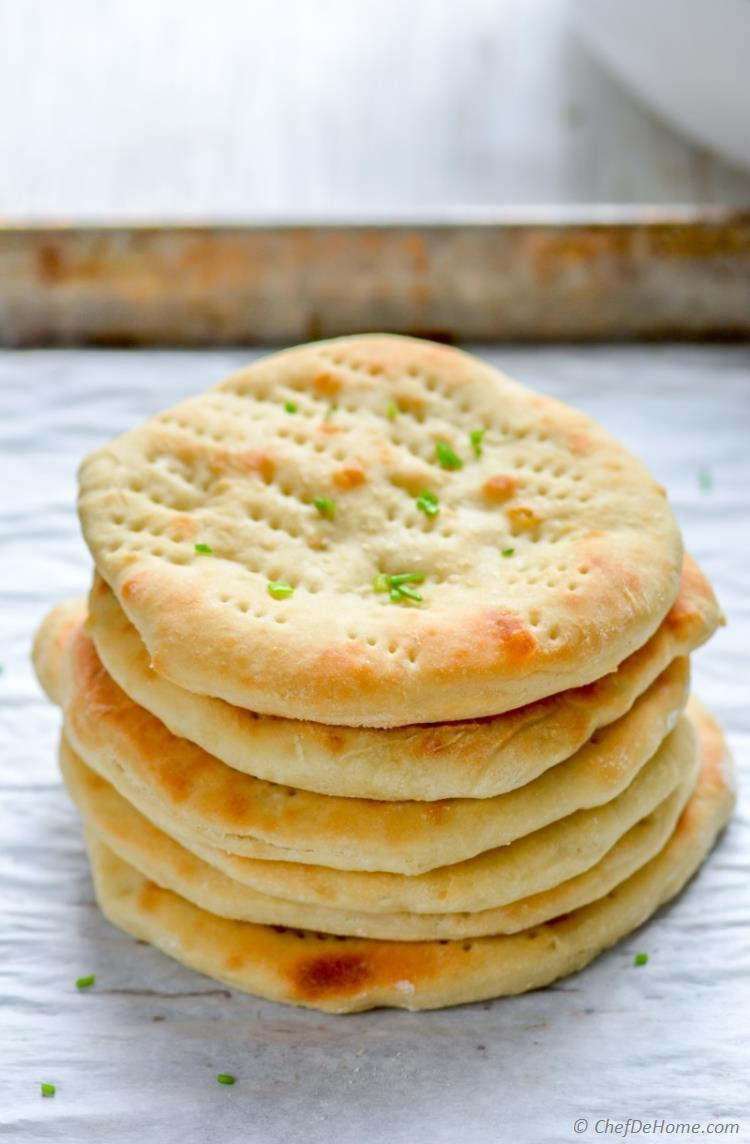Naan: (30, 330, 744, 1015)
